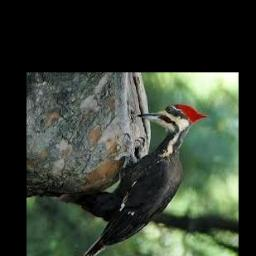Woodpecker: (81, 104, 208, 256)
